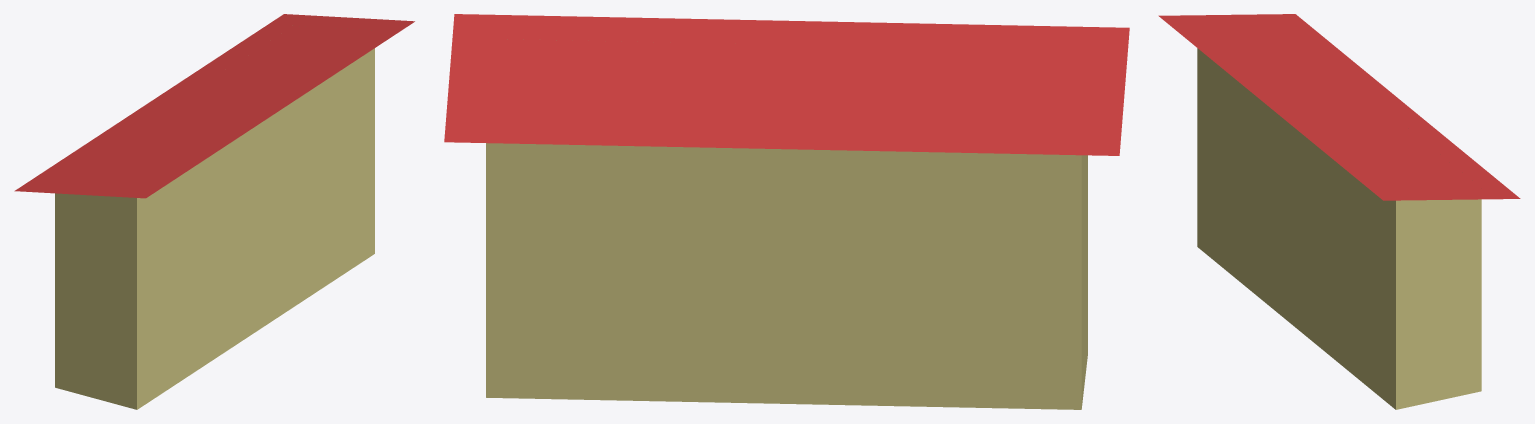
3 renders of one model, left to right at view 1: azimuth 30°, elevation 25°; view 2: azimuth 150°, elevation 25°; view 3: azimuth 270°, elevation 25°, orthographic. The views are drawn at different scales.
Bounding box in the file's own units: 13.14 × 9.37 × 6.44.
